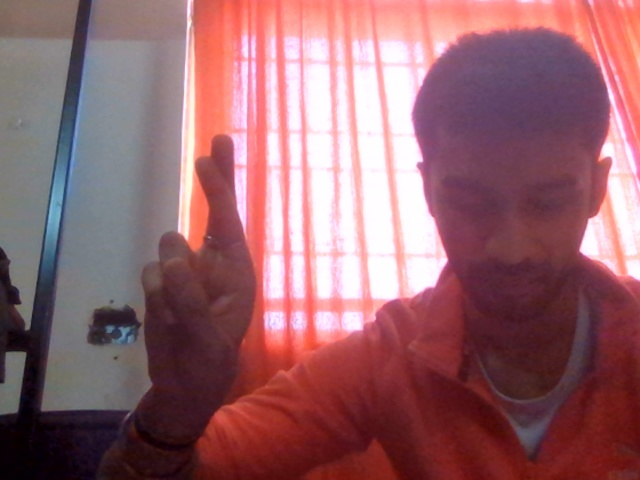R: (115, 119, 288, 468)
